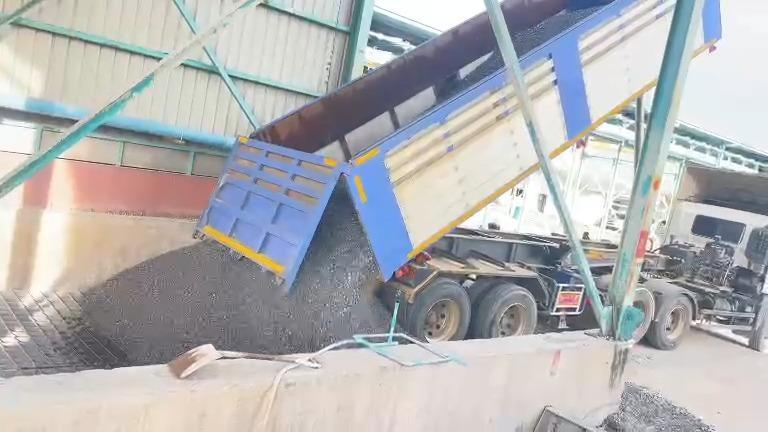gravel: (82, 187, 389, 363), (604, 383, 714, 431)
